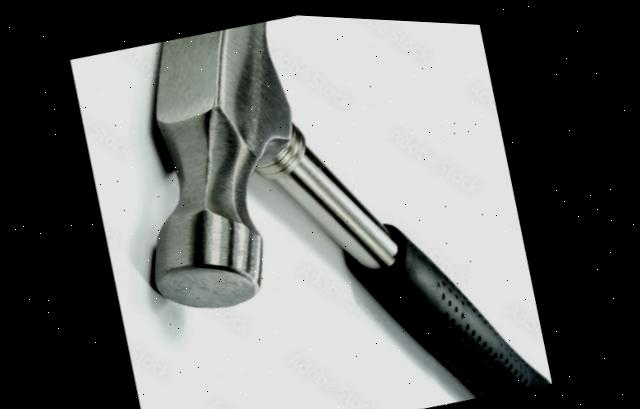hammer: (86, 4, 567, 409)
